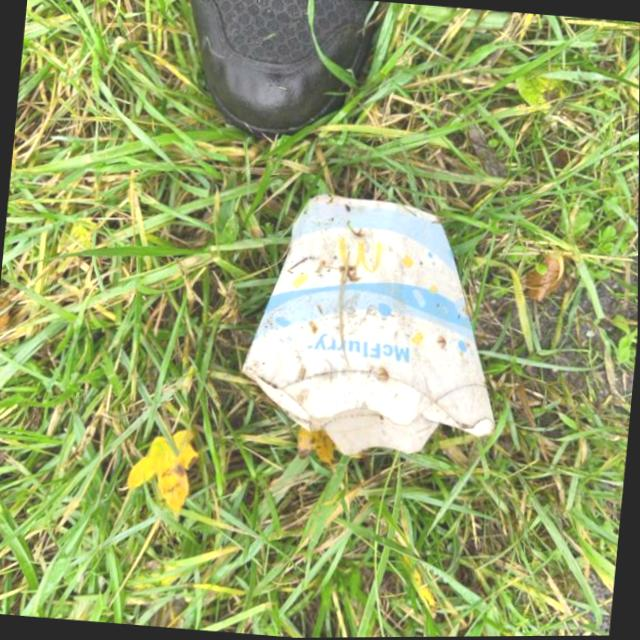Paper: (230, 184, 520, 476)
